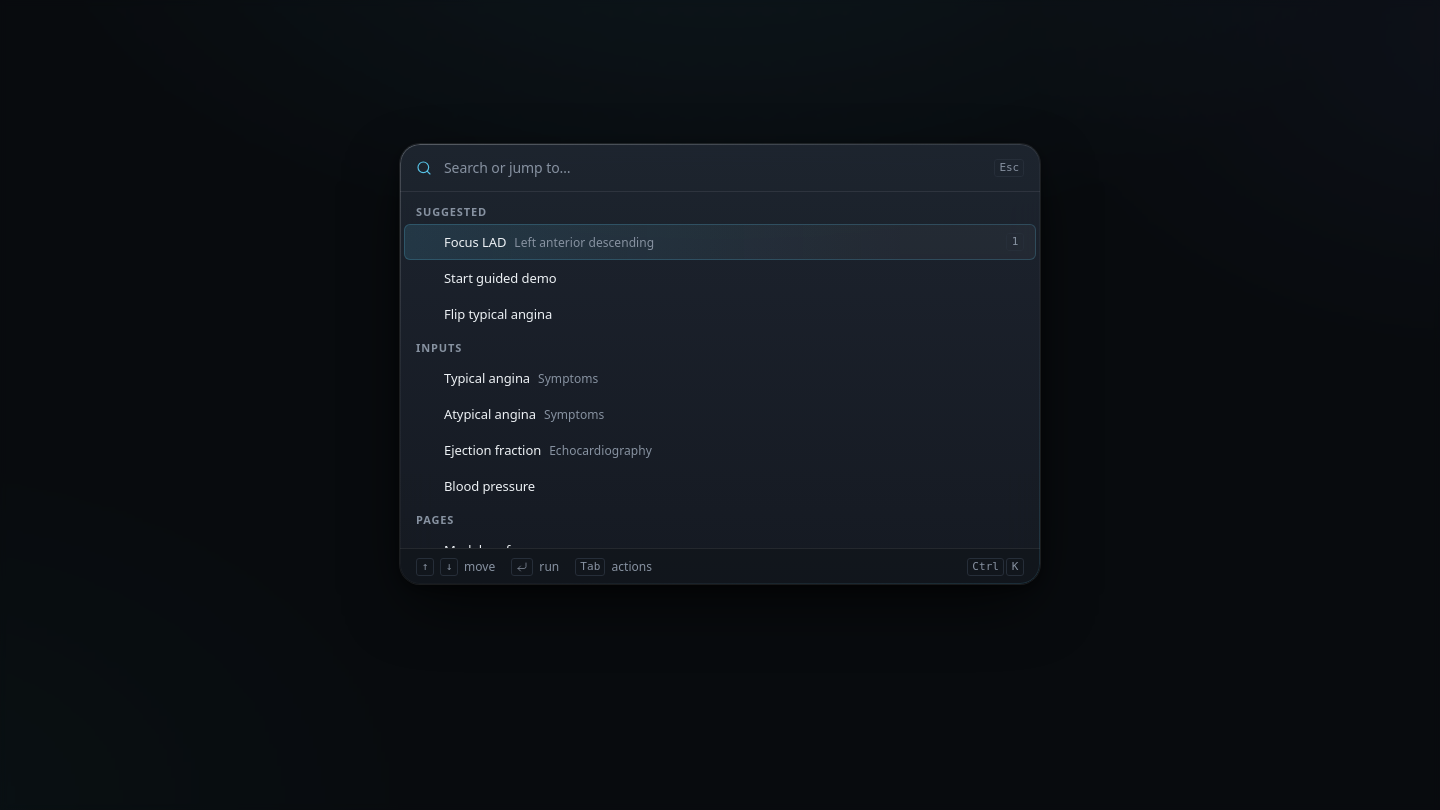
Test case: CommandPalette › opens a row’s actions with Tab and goes back with Backspace
Type "blood" into the dropdown at [713, 168], box [444,144,982,191]
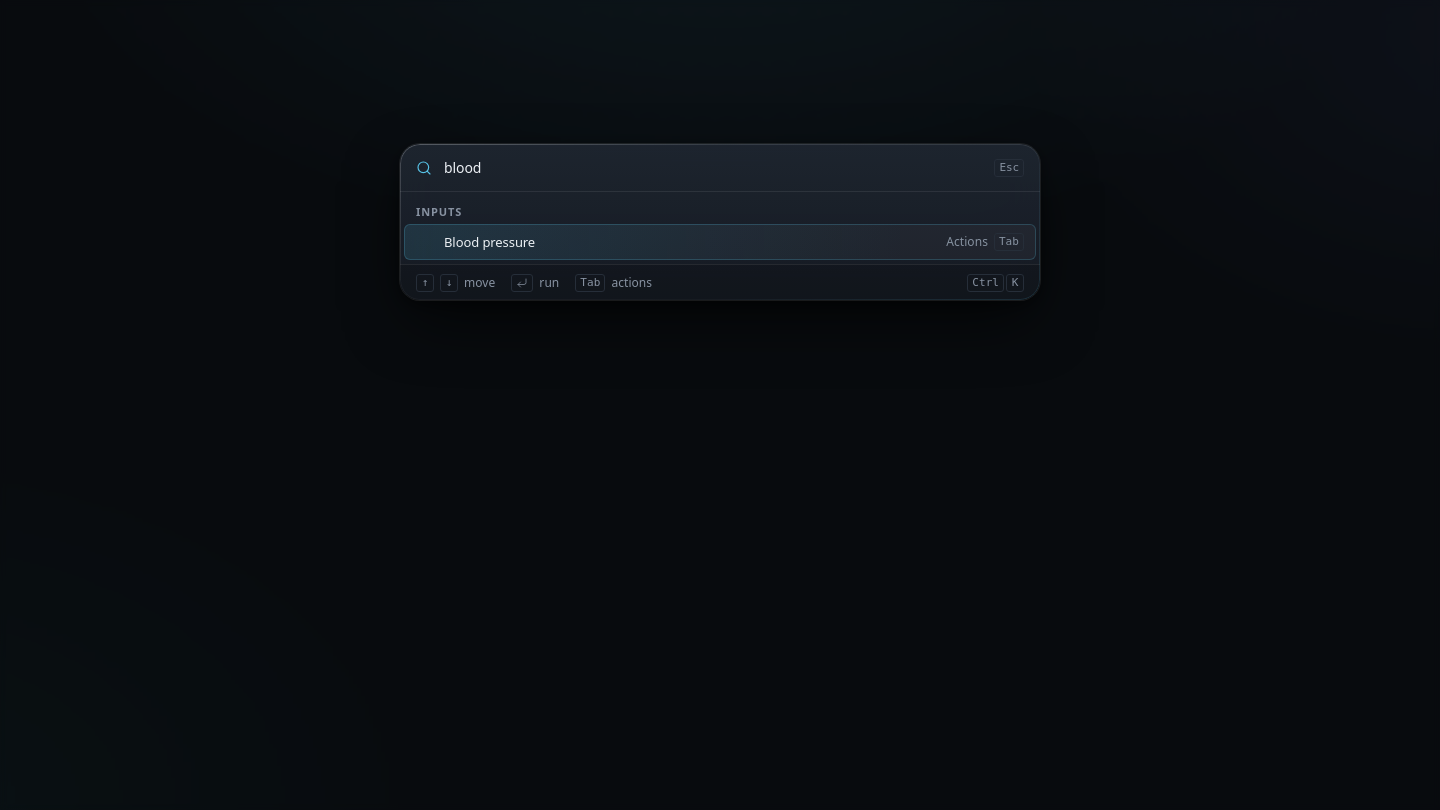
Press Tab
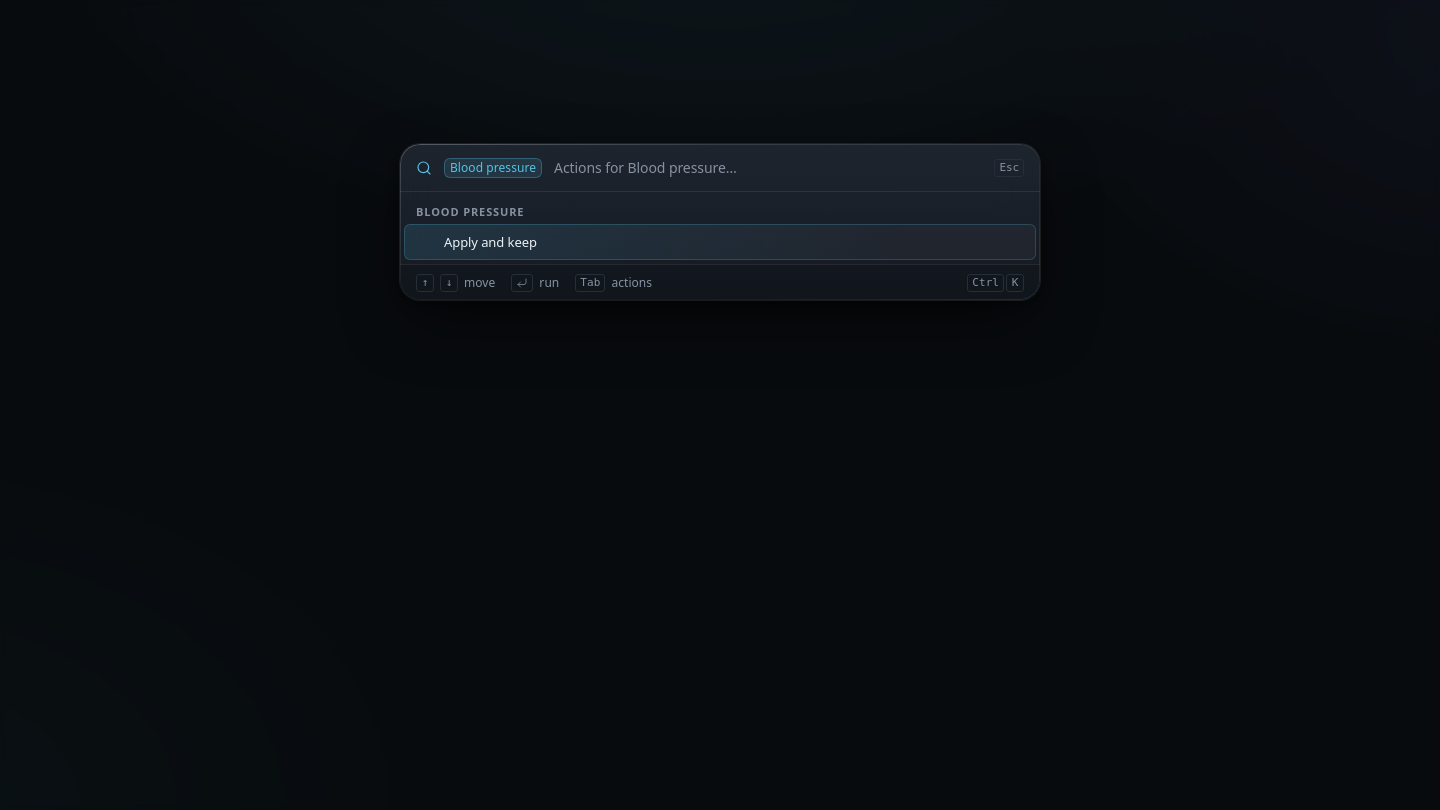
Result: the option "Apply and keep" is shown at [404,224,1036,260]
Press Backspace
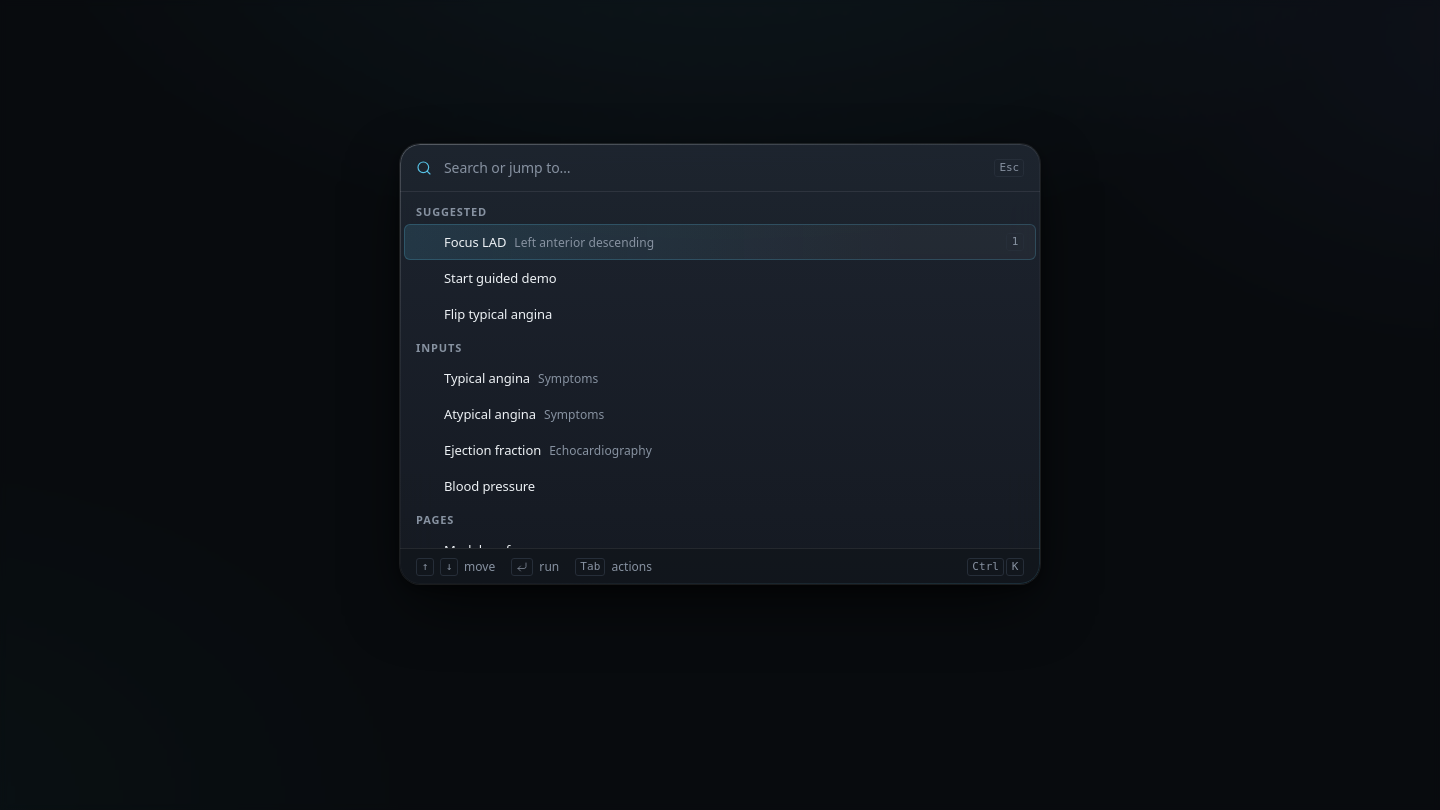
Result: the option "Apply and keep" is gone
